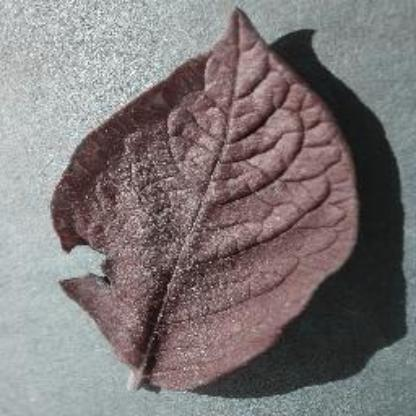Healthy-plant: (48, 9, 387, 402)
